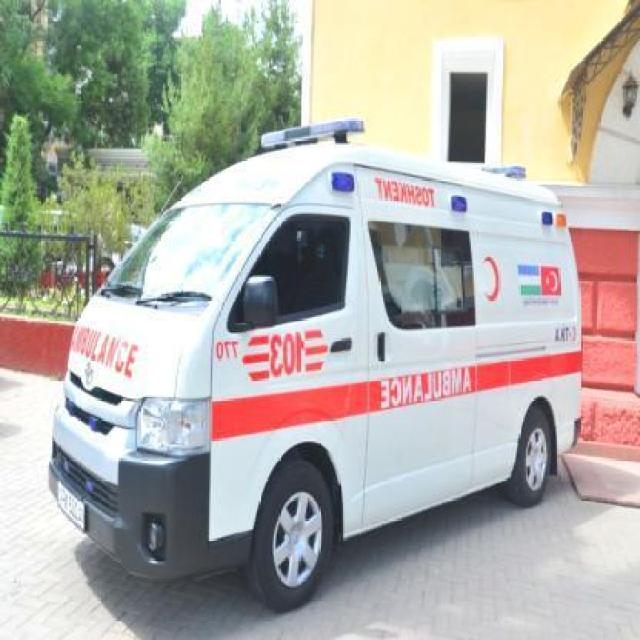Ambulance: (56, 119, 606, 553)
